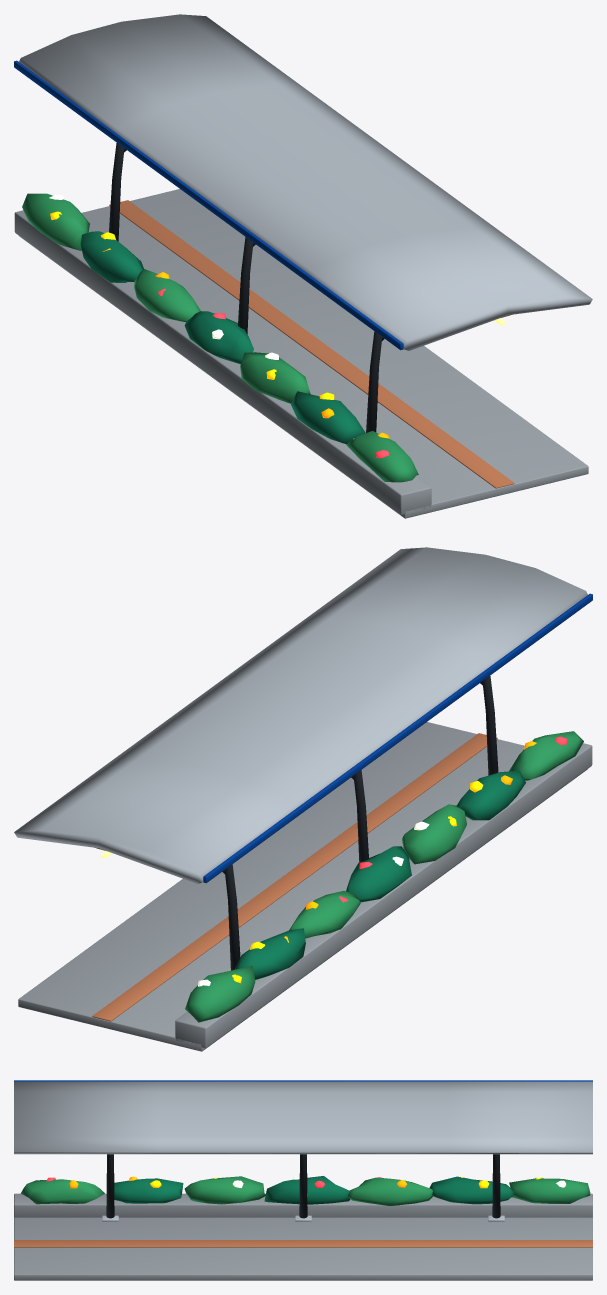
File: kl_covered_walkway.glb
3 renders of one model, top to bottom at view 1: azimuth 30°, elevation 25°; view 2: azimuth 150°, elevation 25°; view 3: azimuth 270°, elevation 25°, orthographic. The views are drawn at different scales.
Visible parts, largest first — view 1: Walkway_Canopy_Shell, Walkway_Deck, Walkway_Kerb, Walkway_Tactile, Walkway_Fascia_Blue, Walkway_Hedge_6, Walkway_Hedge_2, Walkway_Hedge_1, Walkway_Hedge_3, Walkway_Hedge_5, Walkway_Hedge_4, Walkway_Hedge_0 (+3 smaller); view 2: Walkway_Canopy_Shell, Walkway_Deck, Walkway_Kerb, Walkway_Tactile, Walkway_Fascia_Blue, Walkway_Hedge_6, Walkway_Hedge_2, Walkway_Hedge_3, Walkway_Hedge_5, Walkway_Hedge_1, Walkway_Hedge_0, Walkway_Hedge_4 (+3 smaller); view 3: Walkway_Canopy_Shell, Walkway_Deck, Walkway_Kerb, Walkway_Tactile, Walkway_Hedge_2, Walkway_Hedge_4, Walkway_Hedge_6, Walkway_Hedge_3, Walkway_Hedge_0, Walkway_Hedge_5, Walkway_Hedge_1, Walkway_Fascia_Blue (+3 smaller).
Boxes of the visible parts, box(x1,y1,x2,y2) form: Walkway_Canopy_Shell: box(19, 14, 592, 350); Walkway_Deck: box(19, 189, 588, 518); Walkway_Kerb: box(14, 210, 431, 515); Walkway_Tactile: box(109, 200, 514, 488); Walkway_Fascia_Blue: box(14, 60, 403, 350); Walkway_Hedge_6: box(22, 193, 89, 250); Walkway_Hedge_2: box(240, 352, 310, 403); Walkway_Hedge_1: box(291, 391, 365, 444); Walkway_Hedge_3: box(184, 311, 253, 363); Walkway_Hedge_5: box(80, 231, 143, 282); Walkway_Hedge_4: box(134, 269, 200, 322); Walkway_Hedge_0: box(346, 431, 418, 482); Walkway_Canopy_Shell: box(14, 547, 587, 883); Walkway_Deck: box(18, 722, 587, 1051); Walkway_Kerb: box(175, 743, 592, 1048); Walkway_Tactile: box(92, 733, 497, 1021); Walkway_Fascia_Blue: box(203, 593, 592, 883); Walkway_Hedge_6: box(185, 965, 255, 1022); Walkway_Hedge_2: box(402, 804, 466, 864); Walkway_Hedge_3: box(346, 846, 411, 902); Walkway_Hedge_5: box(234, 928, 305, 979); Walkway_Hedge_1: box(456, 770, 525, 820); Walkway_Hedge_0: box(509, 731, 583, 780); Walkway_Hedge_4: box(289, 891, 360, 938); Walkway_Canopy_Shell: box(14, 1081, 592, 1154); Walkway_Deck: box(14, 1217, 592, 1280); Walkway_Kerb: box(14, 1193, 592, 1217); Walkway_Tactile: box(14, 1240, 592, 1247); Walkway_Hedge_2: box(184, 1176, 265, 1204); Walkway_Hedge_4: box(348, 1177, 432, 1205); Walkway_Hedge_6: box(509, 1178, 590, 1203); Walkway_Hedge_3: box(264, 1176, 350, 1204); Walkway_Hedge_0: box(20, 1179, 104, 1204); Walkway_Hedge_5: box(429, 1176, 514, 1204); Walkway_Hedge_1: box(114, 1178, 183, 1203); Walkway_Fascia_Blue: box(14, 1080, 592, 1081).
Size of the model in its own units: 3.55 by 3.24 by 12.
